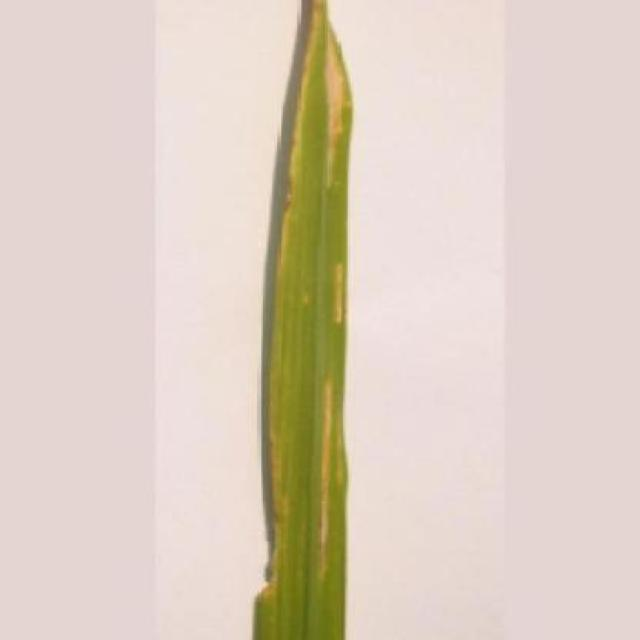Brown_Spot: (247, 0, 356, 640)
